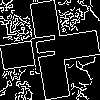F: (25, 25, 63, 75)
